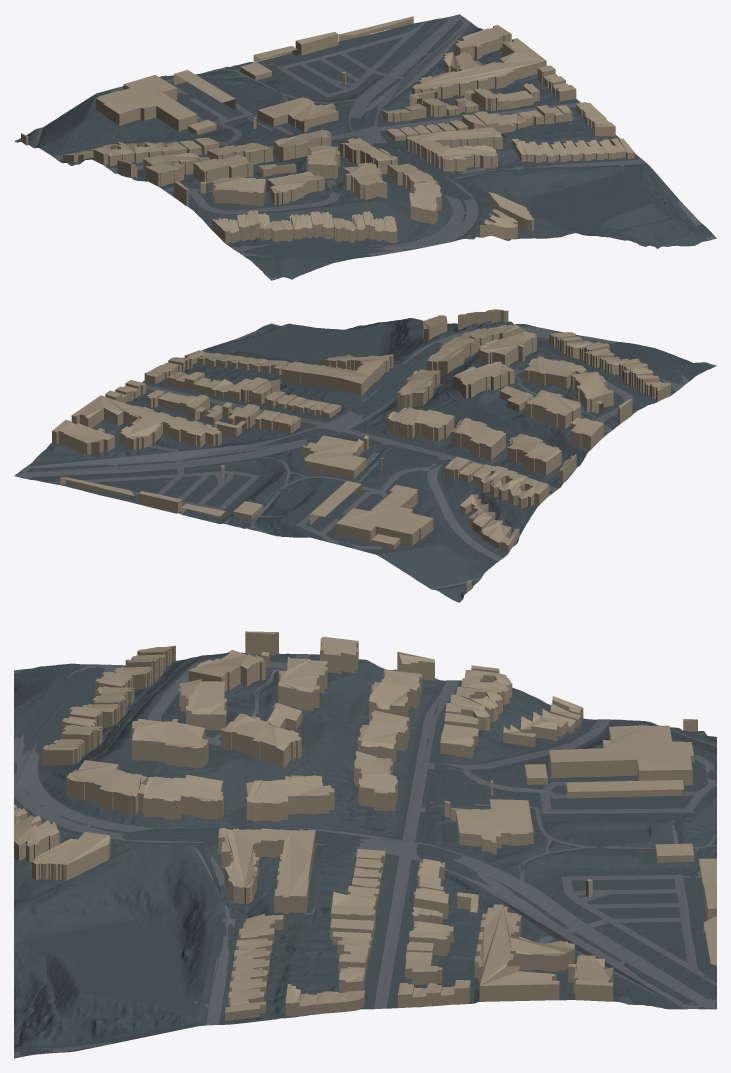
The model's file is epsg26910-1430-10879.lod0.glb.
3 renders of one model, top to bottom at view 1: azimuth 30°, elevation 25°; view 2: azimuth 150°, elevation 25°; view 3: azimuth 270°, elevation 25°, orthographic. The views are drawn at different scales.
Parts seen in each view (by area): view 1: epsg26910-1430-10879-lod0; view 2: epsg26910-1430-10879-lod0; view 3: epsg26910-1430-10879-lod0.
Boxes of the visible parts, x1,y1,x2,y2 form: epsg26910-1430-10879-lod0: (14, 14, 716, 280); epsg26910-1430-10879-lod0: (14, 309, 716, 602); epsg26910-1430-10879-lod0: (14, 631, 716, 1058).
Size of the model in its own units: 384 by 81.14 by 384.
